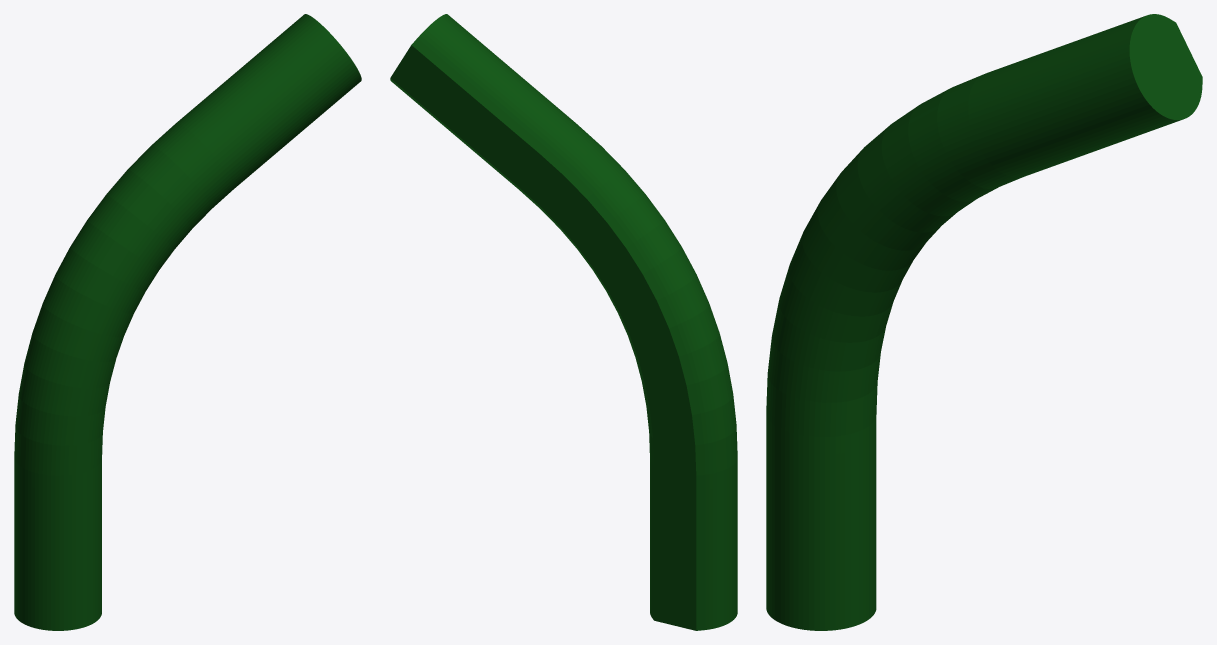
File: stem_1B_60_R.glb
The picture shows the model from 3 angles, left to right: view 1: azimuth 30°, elevation 25°; view 2: azimuth 150°, elevation 25°; view 3: azimuth 330°, elevation 25°; orthographic projection. The views are drawn at different scales.
Parts seen in each view (by area): view 1: stem_1B_60R; view 2: stem_1B_60R; view 3: stem_1B_60R.
Boxes of the visible parts, <box> form: stem_1B_60R: <box>14,14,361,630</box>; stem_1B_60R: <box>390,14,737,630</box>; stem_1B_60R: <box>766,14,1202,630</box>.
Size of the model in its own units: 0.0314 by 0.0481 by 0.00666.
